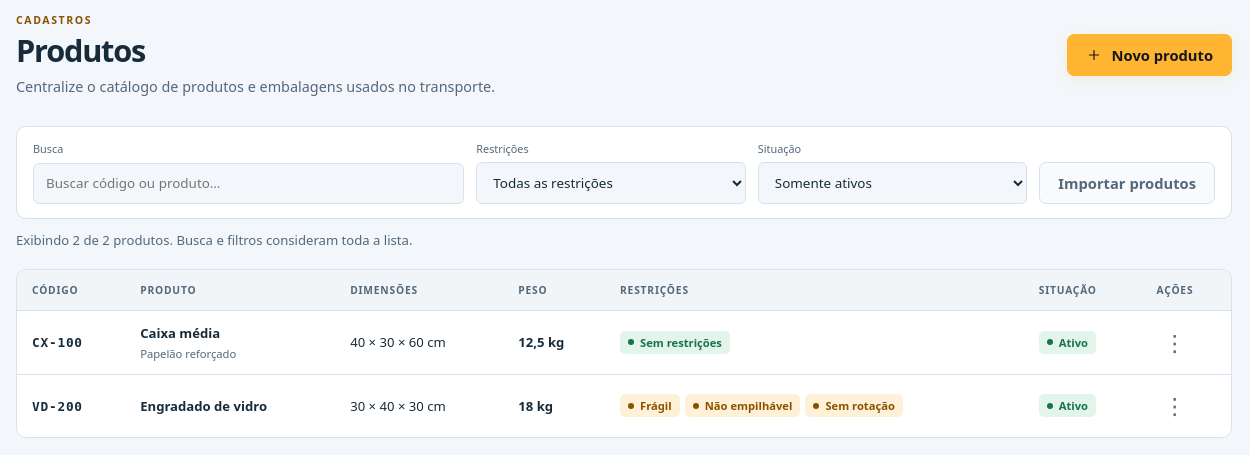
Test: ProductListPage › filtra por código ou nome consultando o servidor
This screenshot has width=1250, height=455.
Check: the text "CX-100" is shown, box [32,335,83,350]
Type "vidro" into the search field named "Buscar por código ou nome" at (249, 183), box [33,163,464,204]
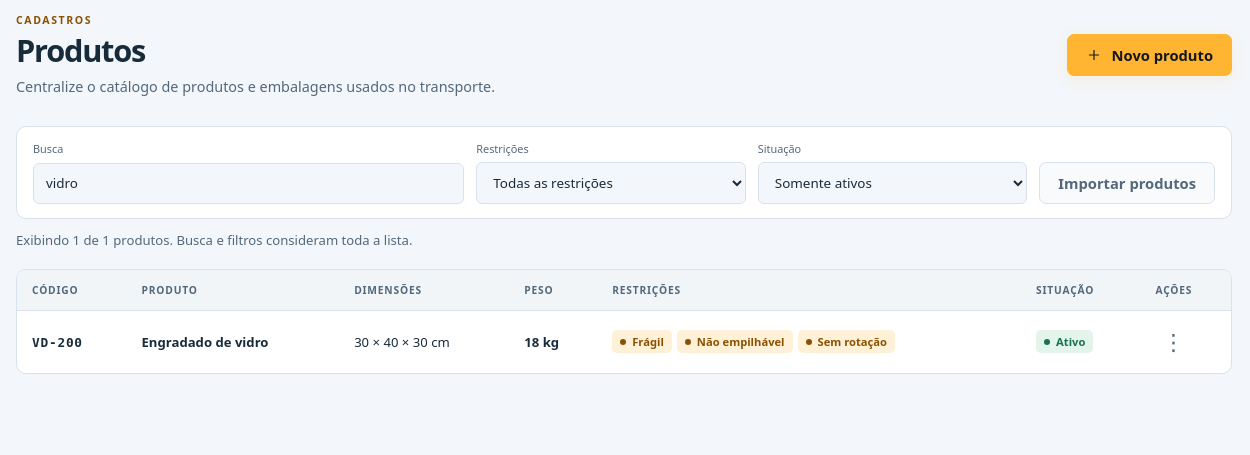
Check: the text "VD-200" is shown, box [32,335,83,350]
Check: the text "CX-100" is gone
